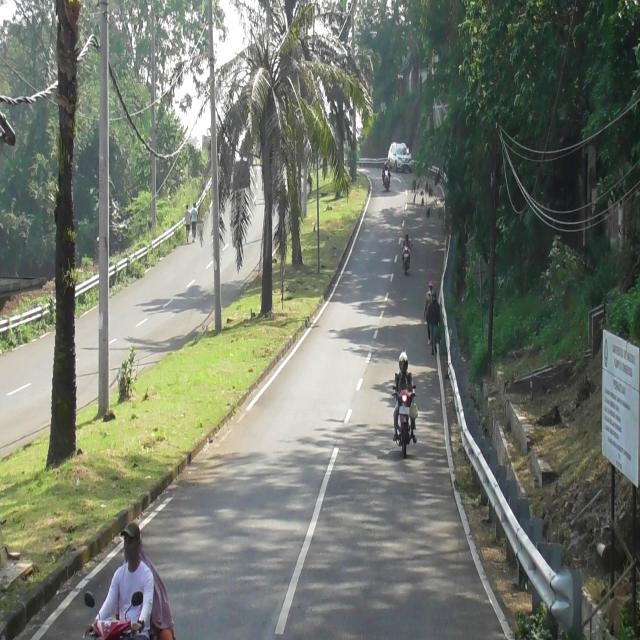motorcycle: (82, 584, 146, 638), (392, 383, 417, 458), (402, 246, 410, 274), (384, 170, 390, 191)
person: (97, 520, 150, 628), (132, 525, 175, 638), (393, 349, 415, 400), (402, 233, 411, 250), (382, 162, 390, 175)
rider_region: (79, 514, 177, 640), (392, 350, 418, 462), (401, 232, 413, 276), (382, 161, 391, 194)
